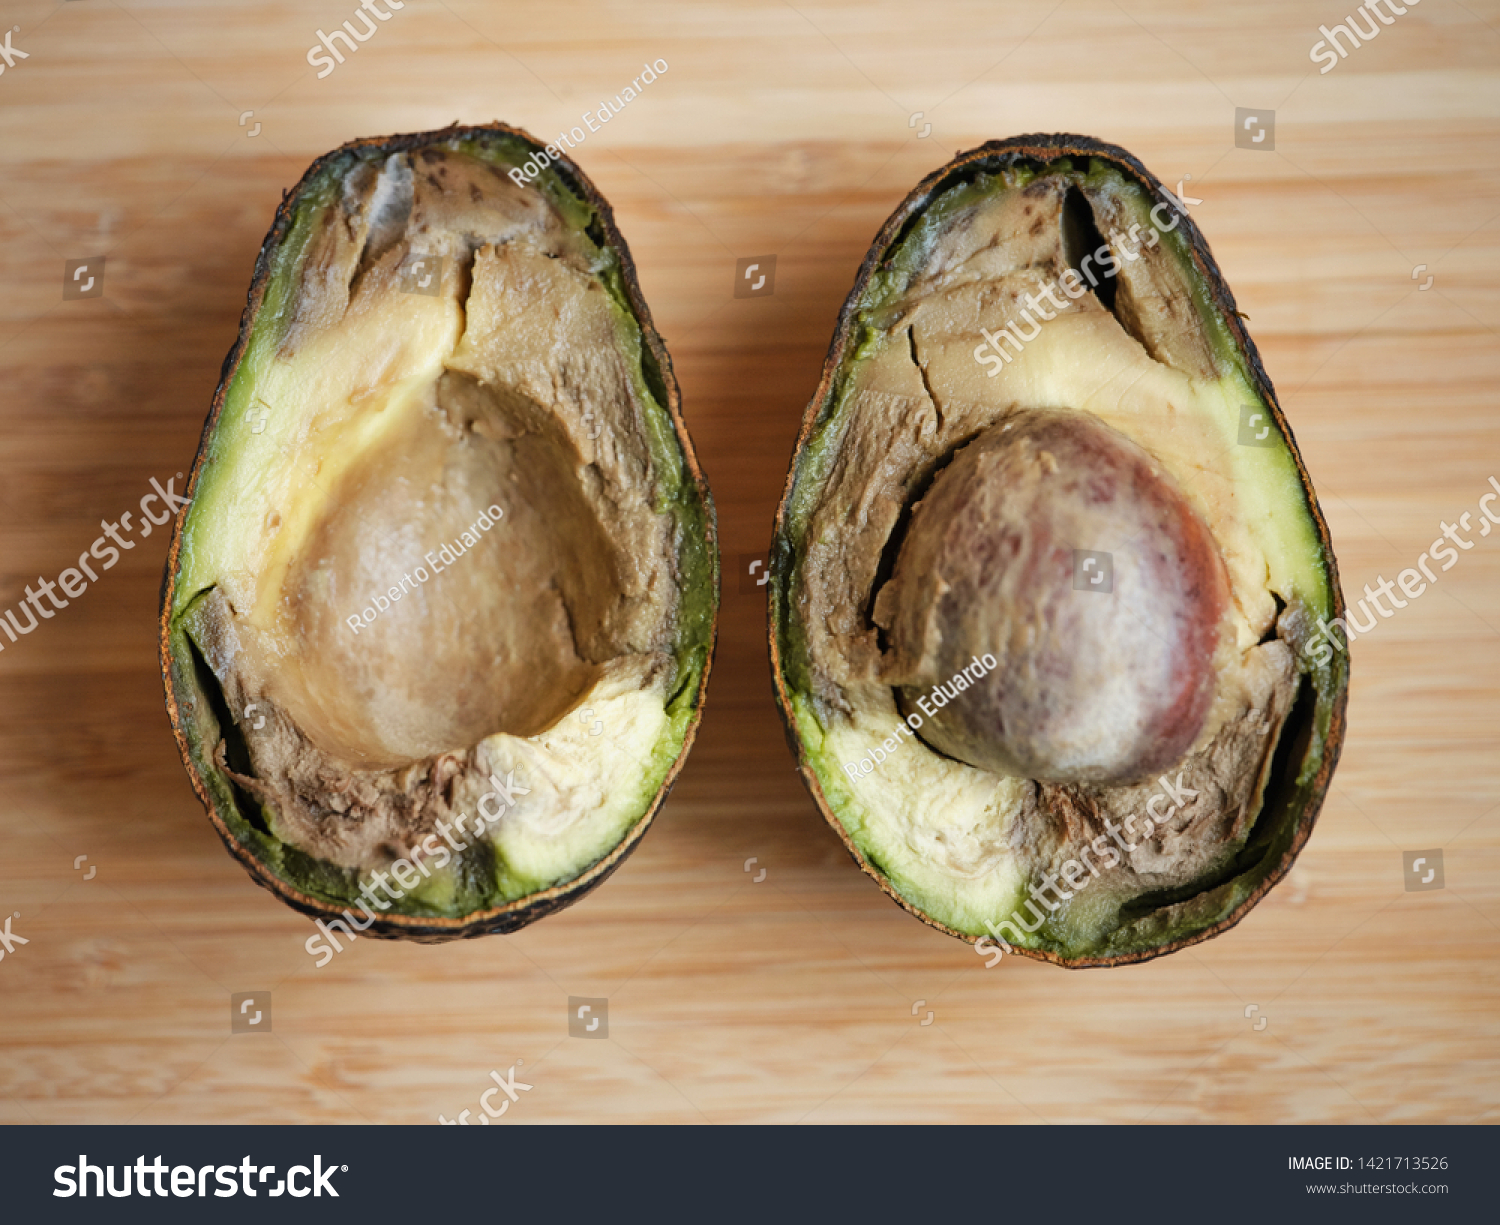damaged_avocado: (774, 137, 1348, 972), (150, 125, 728, 940)
